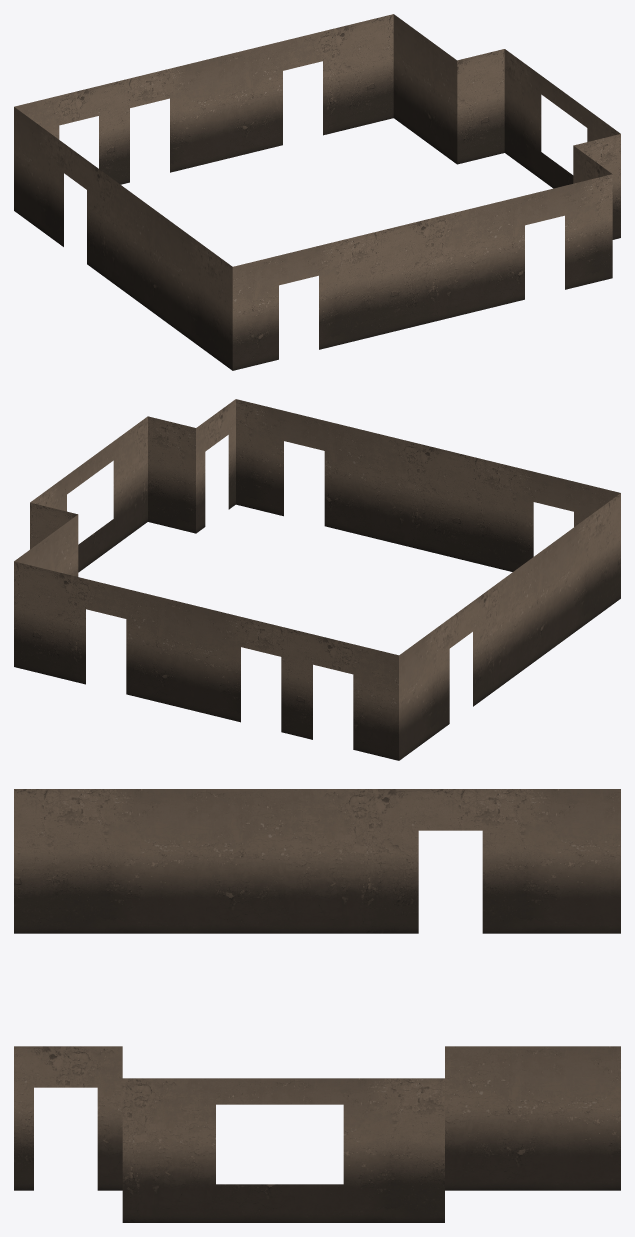
The model's file is A2_H3_Walls.FBX.
3 renders of one model, top to bottom at view 1: azimuth 30°, elevation 25°; view 2: azimuth 150°, elevation 25°; view 3: azimuth 270°, elevation 25°, orthographic. The views are drawn at different scales.
Visible parts, largest first — view 1: A2_H3_Walls; view 2: A2_H3_Walls; view 3: A2_H3_Walls.
Boxes of the visible parts, <box> form: A2_H3_Walls: <box>14,14,620,370</box>; A2_H3_Walls: <box>14,399,620,760</box>; A2_H3_Walls: <box>14,789,620,1222</box>.
Bounding box in the file's own units: 1340 × 312 × 1188.
